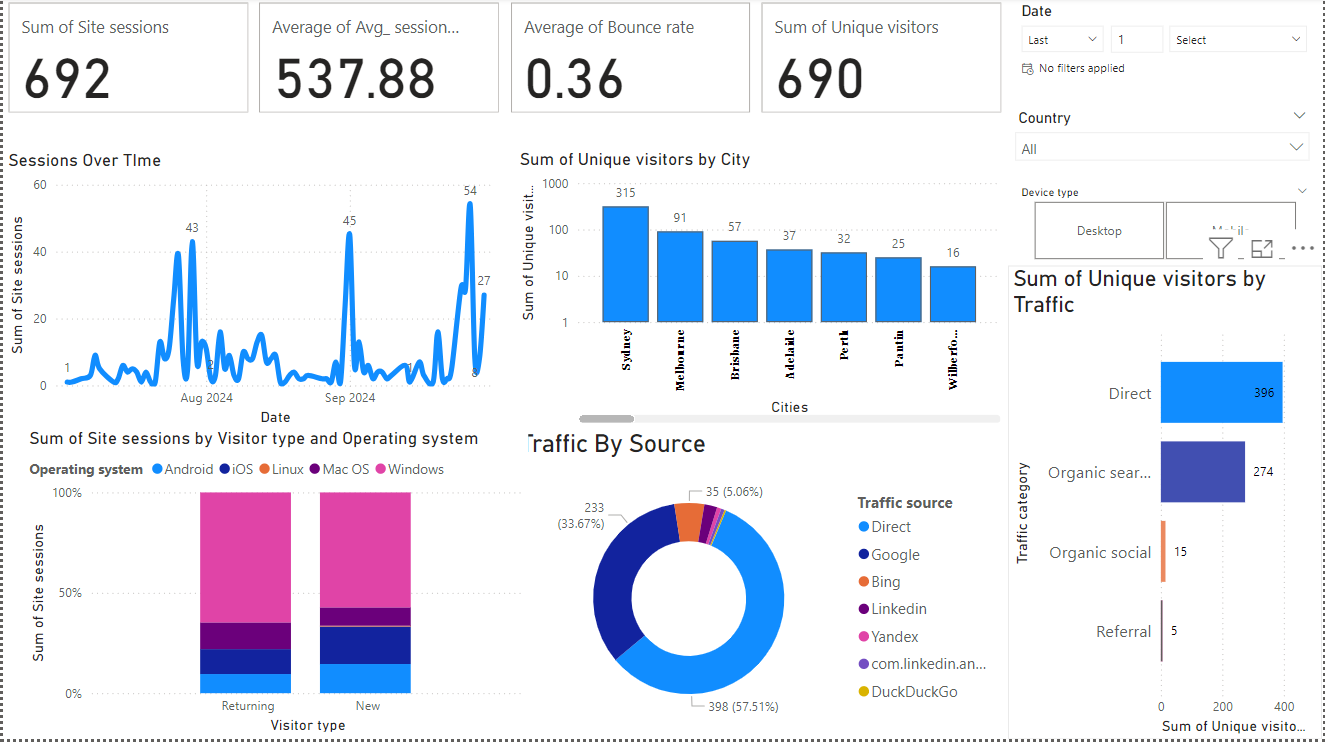

This screenshot's page, from the dashboard's own definition file:
{"tool":"powerbi","page":{"name":"Page 1","canvas":[1280,720],"ordinal":0},"visuals":[{"type":"group","id":"g1","title":"Group 1","box":[0,0,975,103.7],"z":0},{"type":"cardVisual","fields":{"Data":["Sum(Traffic_report_2024-09-01-2024-10-01.Site sessions)"]},"box":[0,0,243.9,103.9],"z":0,"group":"g2"},{"type":"cardVisual","fields":{"Data":["Sum(Traffic_report_2024-09-01-2024-10-01.Unique visitors)"]},"box":[731.6,0,243.9,103.9],"z":1000,"group":"g2"},{"type":"lineChart","title":"Sessions Over TIme","fields":{"Category":["Traffic_report_2024-09-01-2024-10-01.Date"],"Y":["Sum(Traffic_report_2024-09-01-2024-10-01.Site sessions)"]},"box":[0,147.9,496.5,271.1],"z":1000},{"type":"cardVisual","fields":{"Data":["Avg(Traffic_report_2024-09-01-2024-10-01.Bounce rate)"]},"box":[488.4,0,242.8,103.9],"z":2000,"group":"g2"},{"type":"donutChart","title":"Traffic By Source","fields":{"Y":["Sum(Traffic_report_2024-09-01-2024-10-01.Site sessions)"],"Category":["Traffic_report_2024-09-01-2024-10-01.Traffic source"]},"box":[496.4,418.7,478.5,301.1],"z":2000},{"type":"group","id":"g2","title":"Group 2","box":[0,0,975.4,103.9],"z":2004,"group":"g1"},{"type":"cardVisual","fields":{"Data":["Avg(Traffic_report_2024-09-01-2024-10-01.Avg_ session duration (seconds))"]},"box":[243.9,0,243.9,103.9],"z":3000,"group":"g2"},{"type":"hundredPercentStackedColumnChart","fields":{"Category":["Traffic_report_2024-09-01-2024-10-01.Visitor type"],"Y":["Sum(Traffic_report_2024-09-01-2024-10-01.Site sessions)"],"Series":["Traffic_report_2024-09-01-2024-10-01.Operating system"]},"box":[8,418.7,488.5,301.1],"z":3000},{"type":"slicer","fields":{"Values":["Traffic_report_2024-09-01-2024-10-01.Date"]},"box":[973,0,305,103.7],"z":4000},{"type":"clusteredColumnChart","fields":{"Category":["Traffic_report_2024-09-01-2024-10-01.City"],"Y":["Sum(Traffic_report_2024-09-01-2024-10-01.Unique visitors)"]},"box":[496.4,147.5,476.5,271.2],"z":5000},{"type":"slicer","fields":{"Values":["Traffic_report_2024-09-01-2024-10-01.Device type"]},"box":[975,177.4,303.1,83.7],"z":5001},{"type":"slicer","fields":{"Values":["Traffic_report_2024-09-01-2024-10-01.Country"]},"box":[973,103.7,305,73.8],"z":5002},{"type":"clusteredBarChart","title":"Sum of Unique visitors by Traffic","fields":{"Category":["Traffic_report_2024-09-01-2024-10-01.Traffic category"],"Y":["Sum(Traffic_report_2024-09-01-2024-10-01.Unique visitors)"]},"box":[975,261.2,305,458.6],"z":5004}]}

Visuals, with their boxes in screenshot pixels (x1, y1, x2, y2), scaled from the page's 1280x720 canvas onto the 1325x745 screenshot:
"Group 1" group: box=[0, 0, 1009, 107]
cardVisual - Sum(Traffic_report_2024-09-01-2024-10-01.Site sessions): box=[0, 0, 252, 108]
cardVisual - Sum(Traffic_report_2024-09-01-2024-10-01.Unique visitors): box=[757, 0, 1010, 108]
"Sessions Over TIme" lineChart: box=[0, 153, 514, 434]
cardVisual - Avg(Traffic_report_2024-09-01-2024-10-01.Bounce rate): box=[506, 0, 757, 108]
"Traffic By Source" donutChart: box=[514, 433, 1009, 744]
"Group 2" group: box=[0, 0, 1010, 108]
cardVisual - Avg(Traffic_report_2024-09-01-2024-10-01.Avg_ session duration (seconds)): box=[252, 0, 505, 108]
hundredPercentStackedColumnChart - Traffic_report_2024-09-01-2024-10-01.Visitor type x Sum(Traffic_report_2024-09-01-2024-10-01.Site sessions): box=[8, 433, 514, 744]
slicer - Traffic_report_2024-09-01-2024-10-01.Date: box=[1007, 0, 1323, 107]
clusteredColumnChart - Traffic_report_2024-09-01-2024-10-01.City x Sum(Traffic_report_2024-09-01-2024-10-01.Unique visitors): box=[514, 153, 1007, 433]
slicer - Traffic_report_2024-09-01-2024-10-01.Device type: box=[1009, 184, 1323, 270]
slicer - Traffic_report_2024-09-01-2024-10-01.Country: box=[1007, 107, 1323, 184]
"Sum of Unique visitors by Traffic" clusteredBarChart: box=[1009, 270, 1324, 744]
